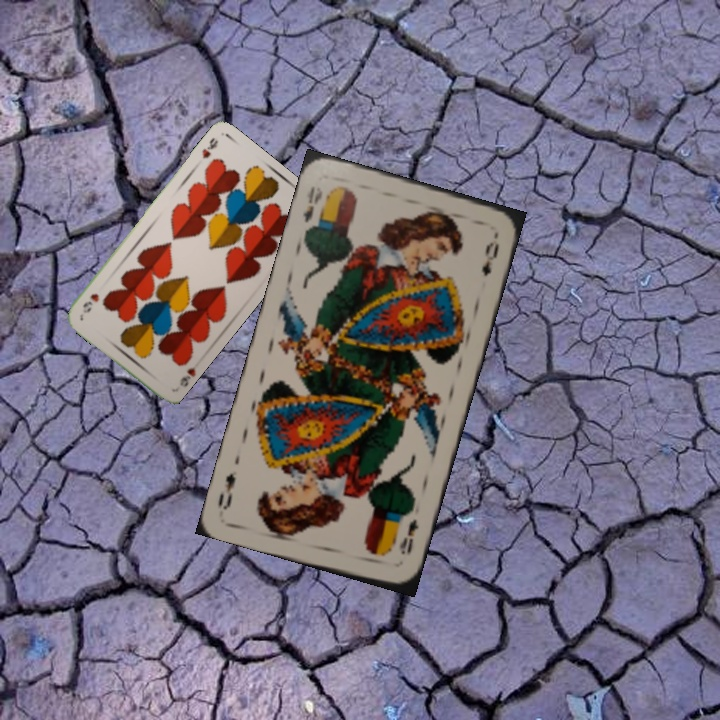EO: (299, 181, 326, 226), (395, 515, 422, 557)
H9: (176, 358, 202, 389), (198, 133, 221, 161)
